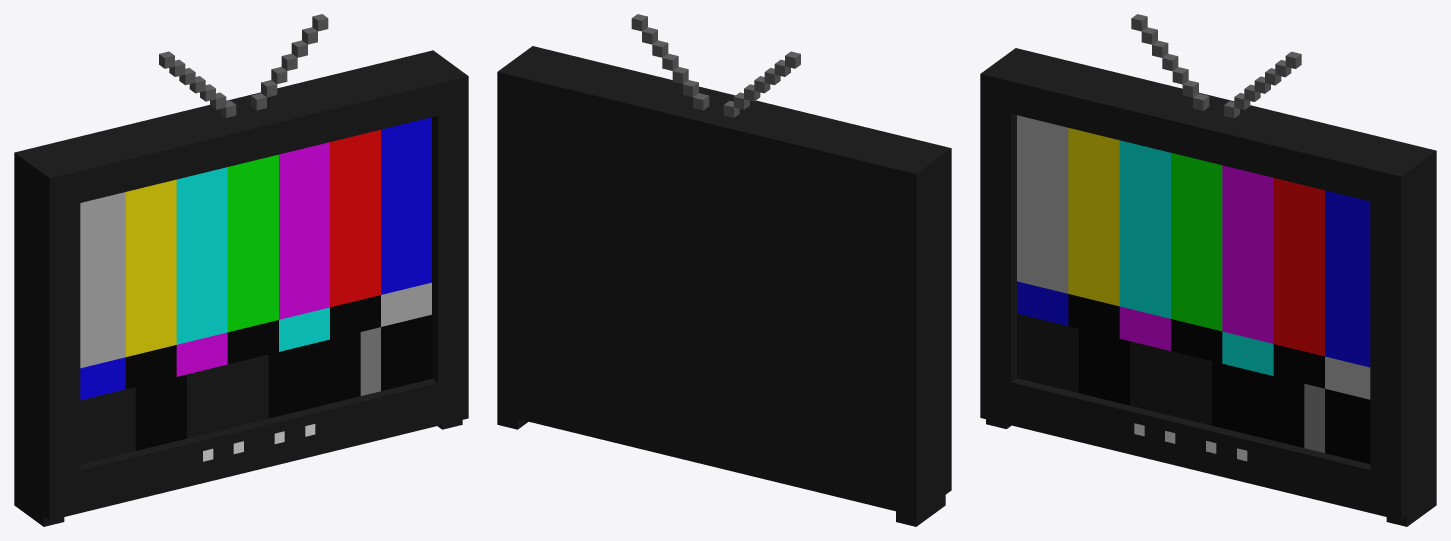
The model's file is TV (Static).obj.
3 views of the same model, side by side, from view 1: azimuth 30°, elevation 25°; view 2: azimuth 150°, elevation 25°; view 3: azimuth 330°, elevation 25° (orthographic).
Size of the model in its own units: 4.1 by 4 by 0.6.
Materials: 1 (1 with a texture image).
